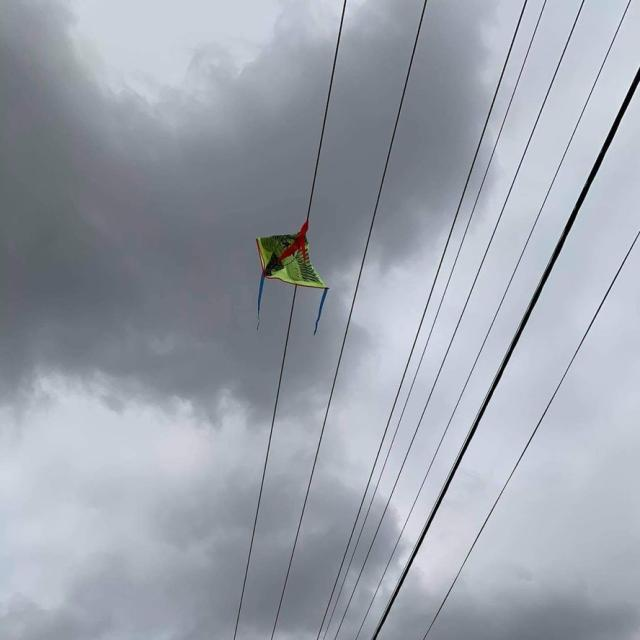植被遮挡: (248, 186, 338, 360)
